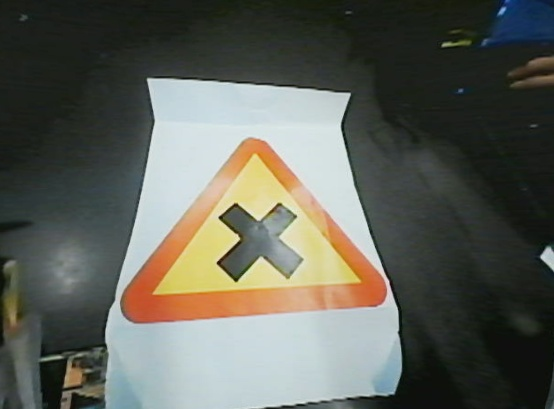junction: (125, 141, 391, 318)
